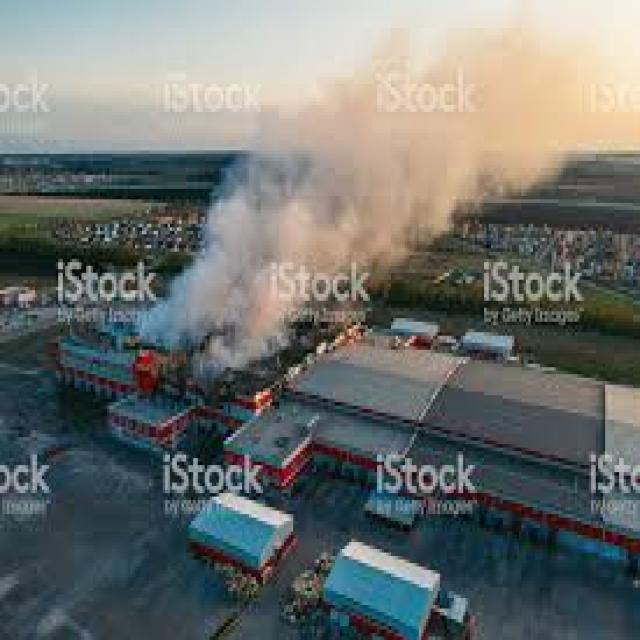Smoke: (161, 166, 337, 370)
